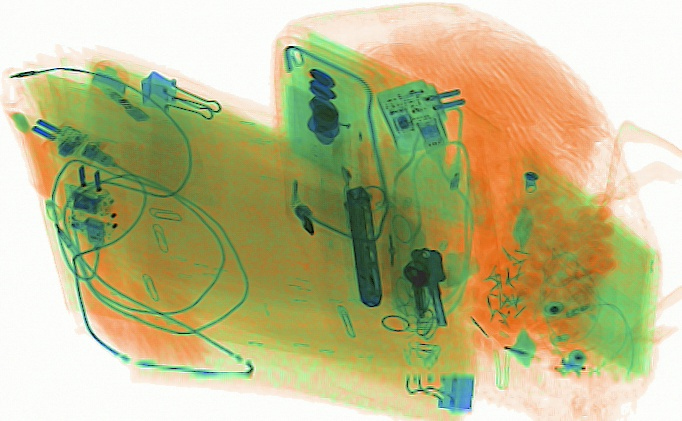knife: (341, 181, 383, 308)
